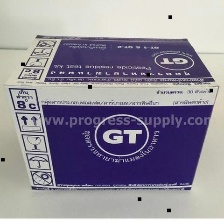book: (0, 31, 221, 196)
